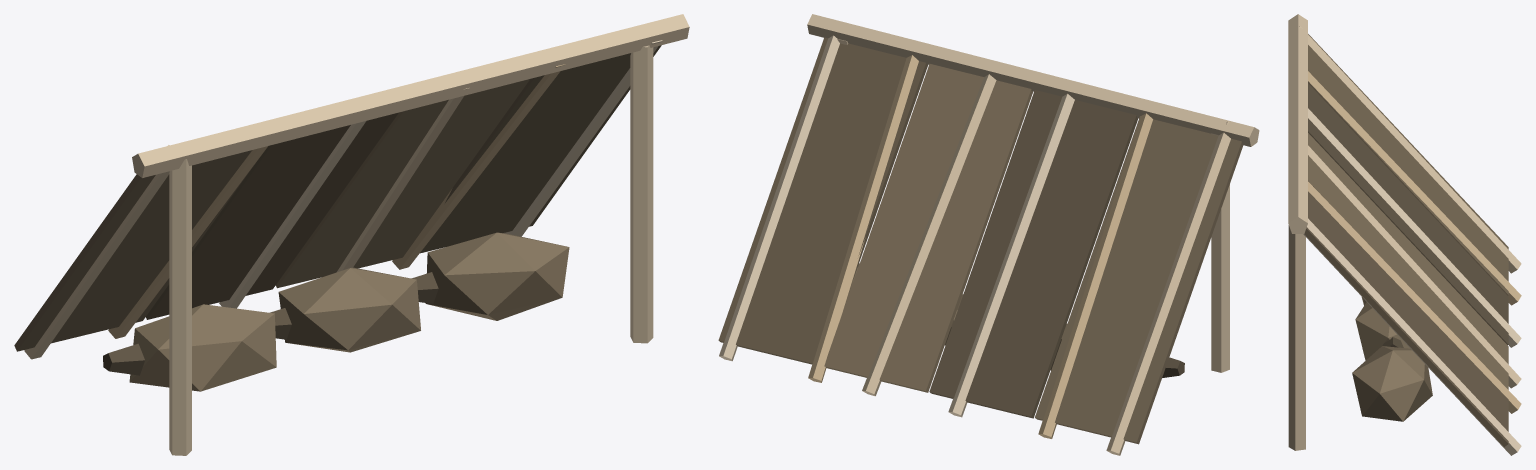
Rendered from drift_shelter.glb.
3 renders of one model, left to right at view 1: azimuth 30°, elevation 25°; view 2: azimuth 150°, elevation 25°; view 3: azimuth 270°, elevation 25°, orthographic. The views are drawn at different scales.
Visible parts, largest first — view 1: driftwood_d35, driftwood_l20, driftwood_d50, driftwood_d45, driftwood_d40, driftwood, driftwood_l30, driftwood_d55; view 2: driftwood_d35, driftwood_d50, driftwood_d40, driftwood_d45, driftwood_l20, driftwood, driftwood_l30; view 3: driftwood_d35, driftwood_l20, driftwood_d50, driftwood_d45, driftwood_d40, driftwood_l30, driftwood.
Boxes of the visible parts, x1,y1,x2,y2 form: driftwood_d35: (129,79,569,391); driftwood_l20: (24,14,689,455); driftwood_d50: (146,112,398,319); driftwood_d45: (420,45,661,253); driftwood_d40: (14,150,253,351); driftwood: (108,64,565,338); driftwood_l30: (219,40,662,308); driftwood_d55: (103,272,438,375); driftwood_d35: (824,63,1067,392); driftwood_d50: (929,90,1138,418); driftwood_d40: (1035,116,1243,444); driftwood_d45: (718,37,928,364); driftwood_l20: (807,14,1259,455); driftwood: (808,55,1152,438); driftwood_l30: (719,35,1074,417); driftwood_d35: (1308,133,1508,421); driftwood_l20: (1288,14,1521,450); driftwood_d50: (1308,83,1508,345); driftwood_d45: (1304,191,1508,447); driftwood_d40: (1308,34,1508,295); driftwood_l30: (1303,108,1521,455); driftwood: (1308,71,1521,413).
Bounding box in the file's own units: 2.6 × 1.46 × 1.23.
